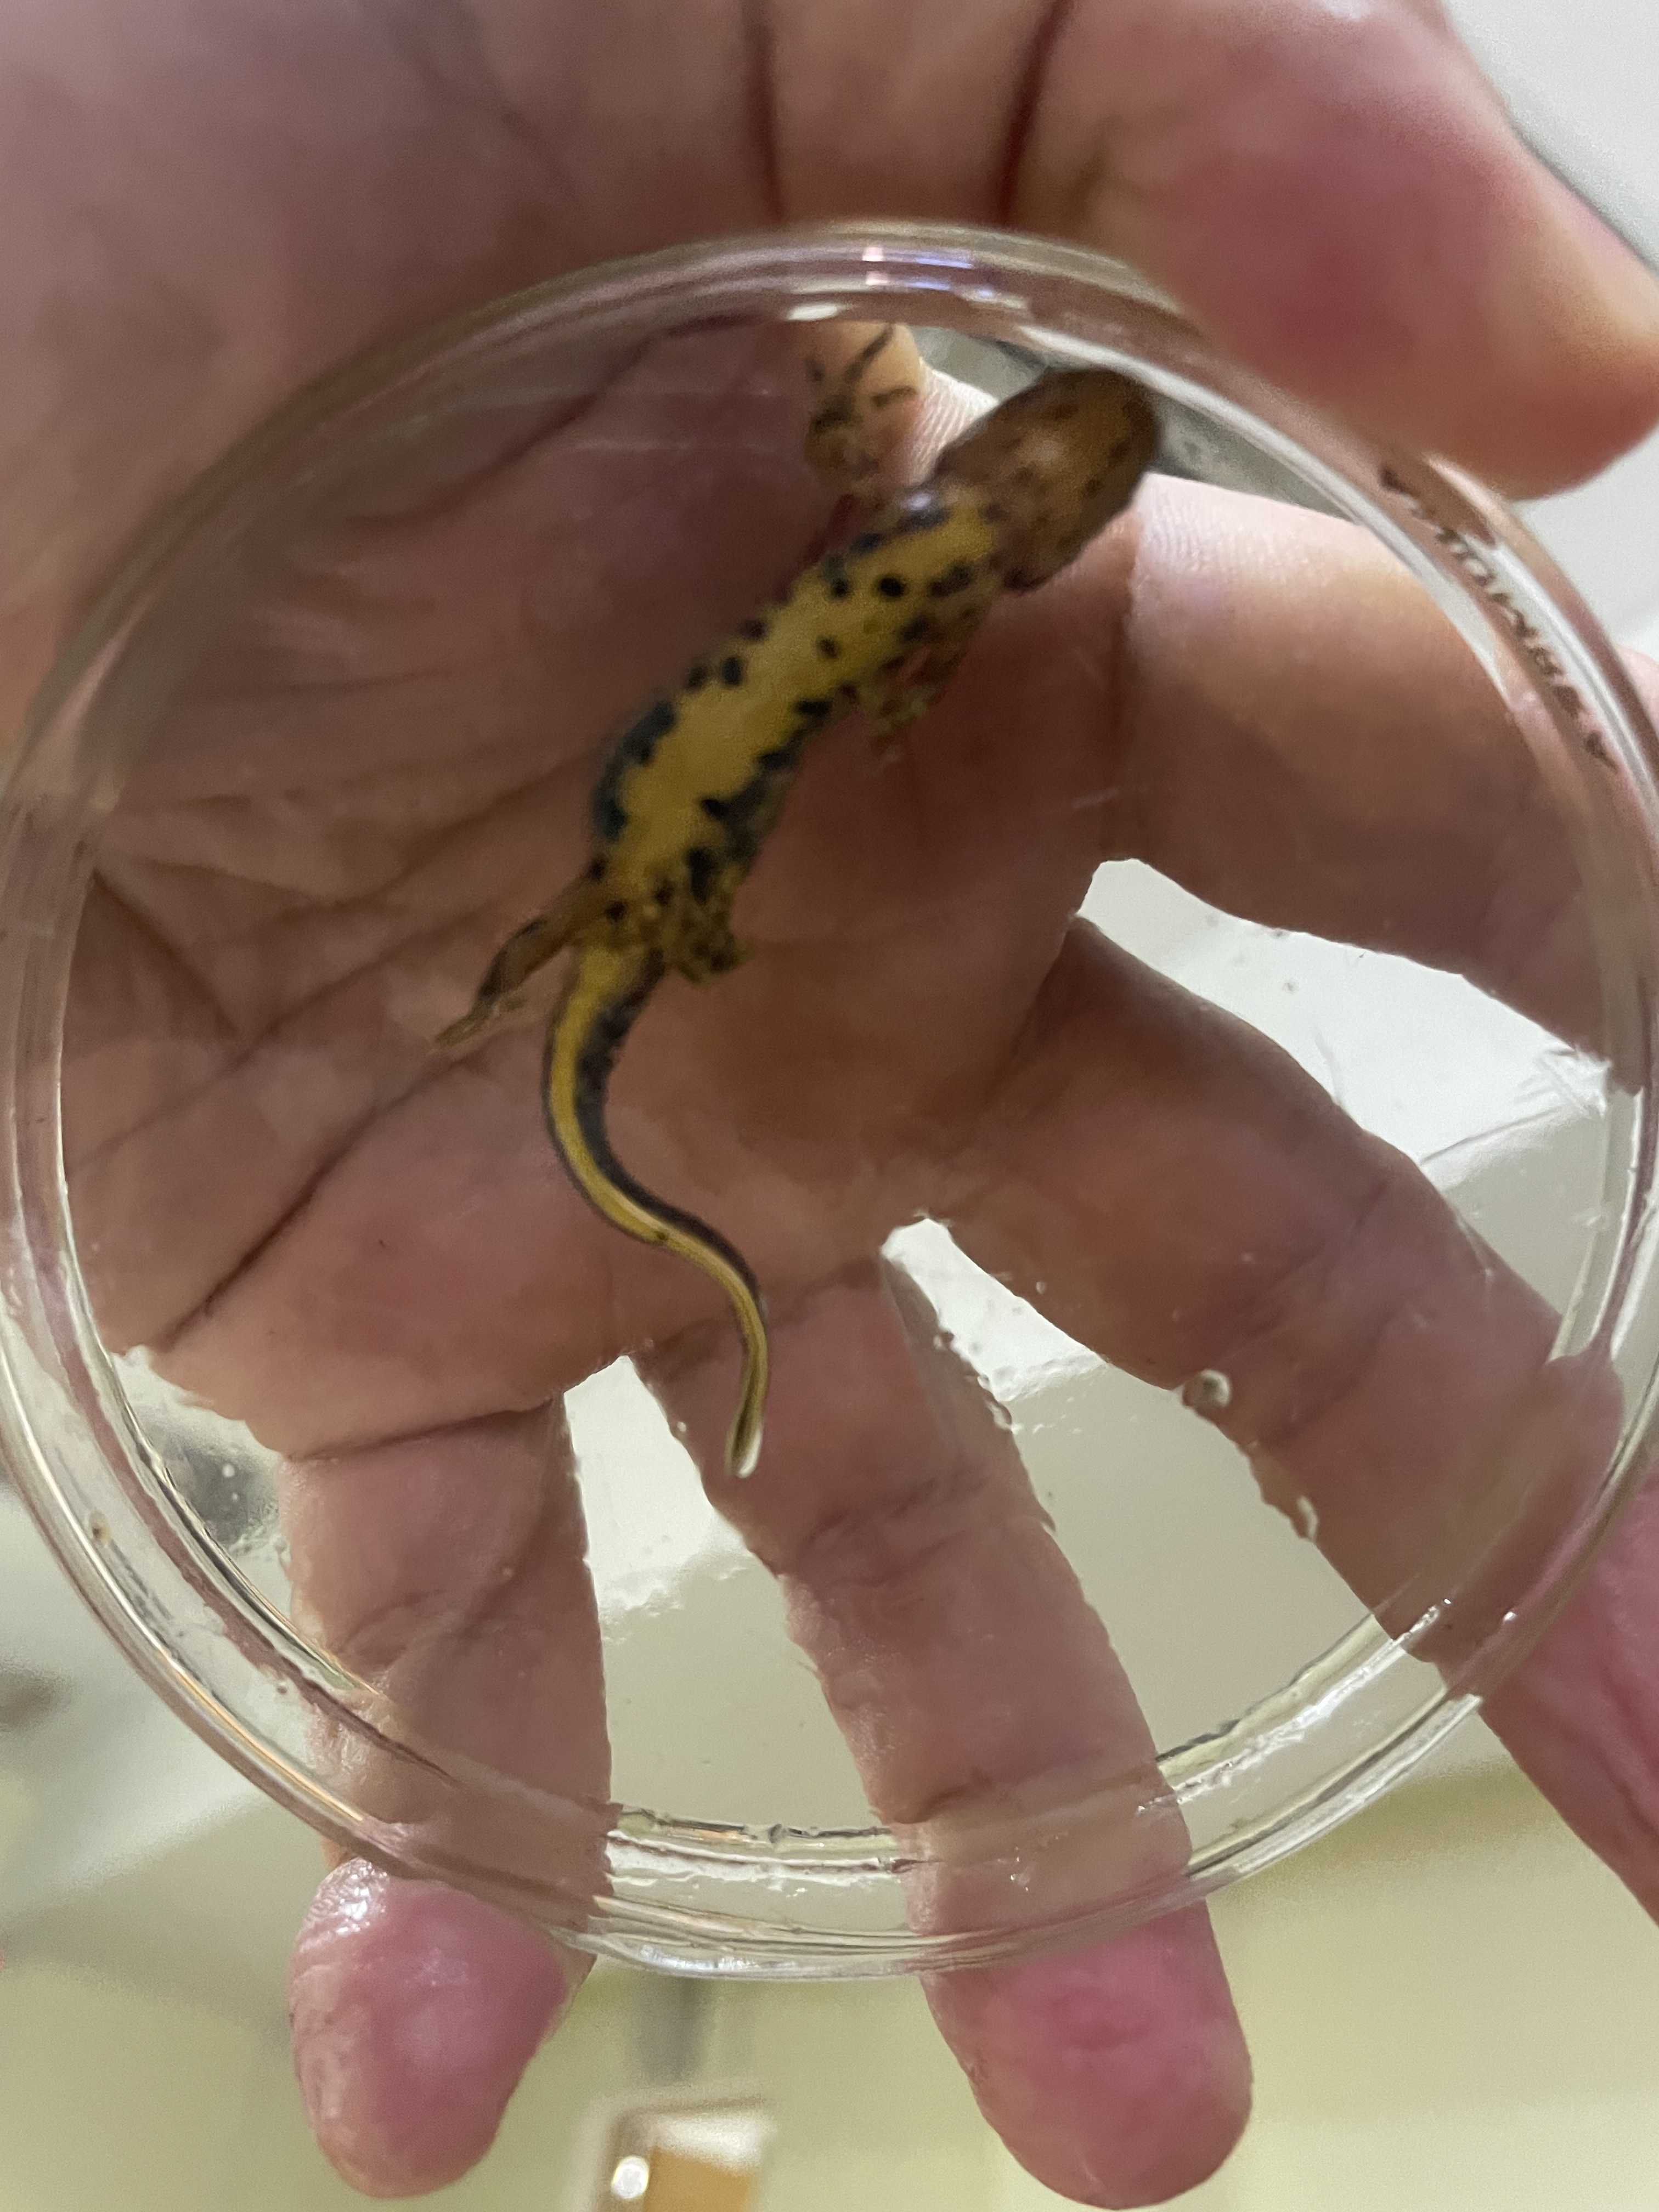Karelin_newt: (589, 529, 929, 911)
